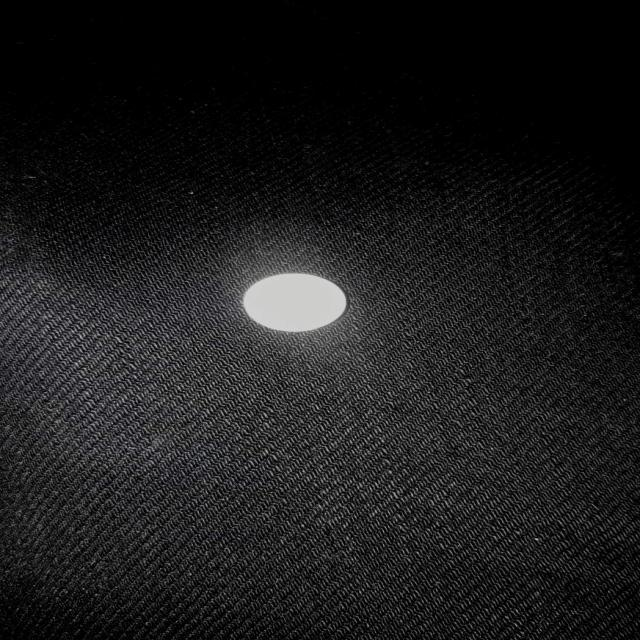pill: (240, 271, 348, 333)
